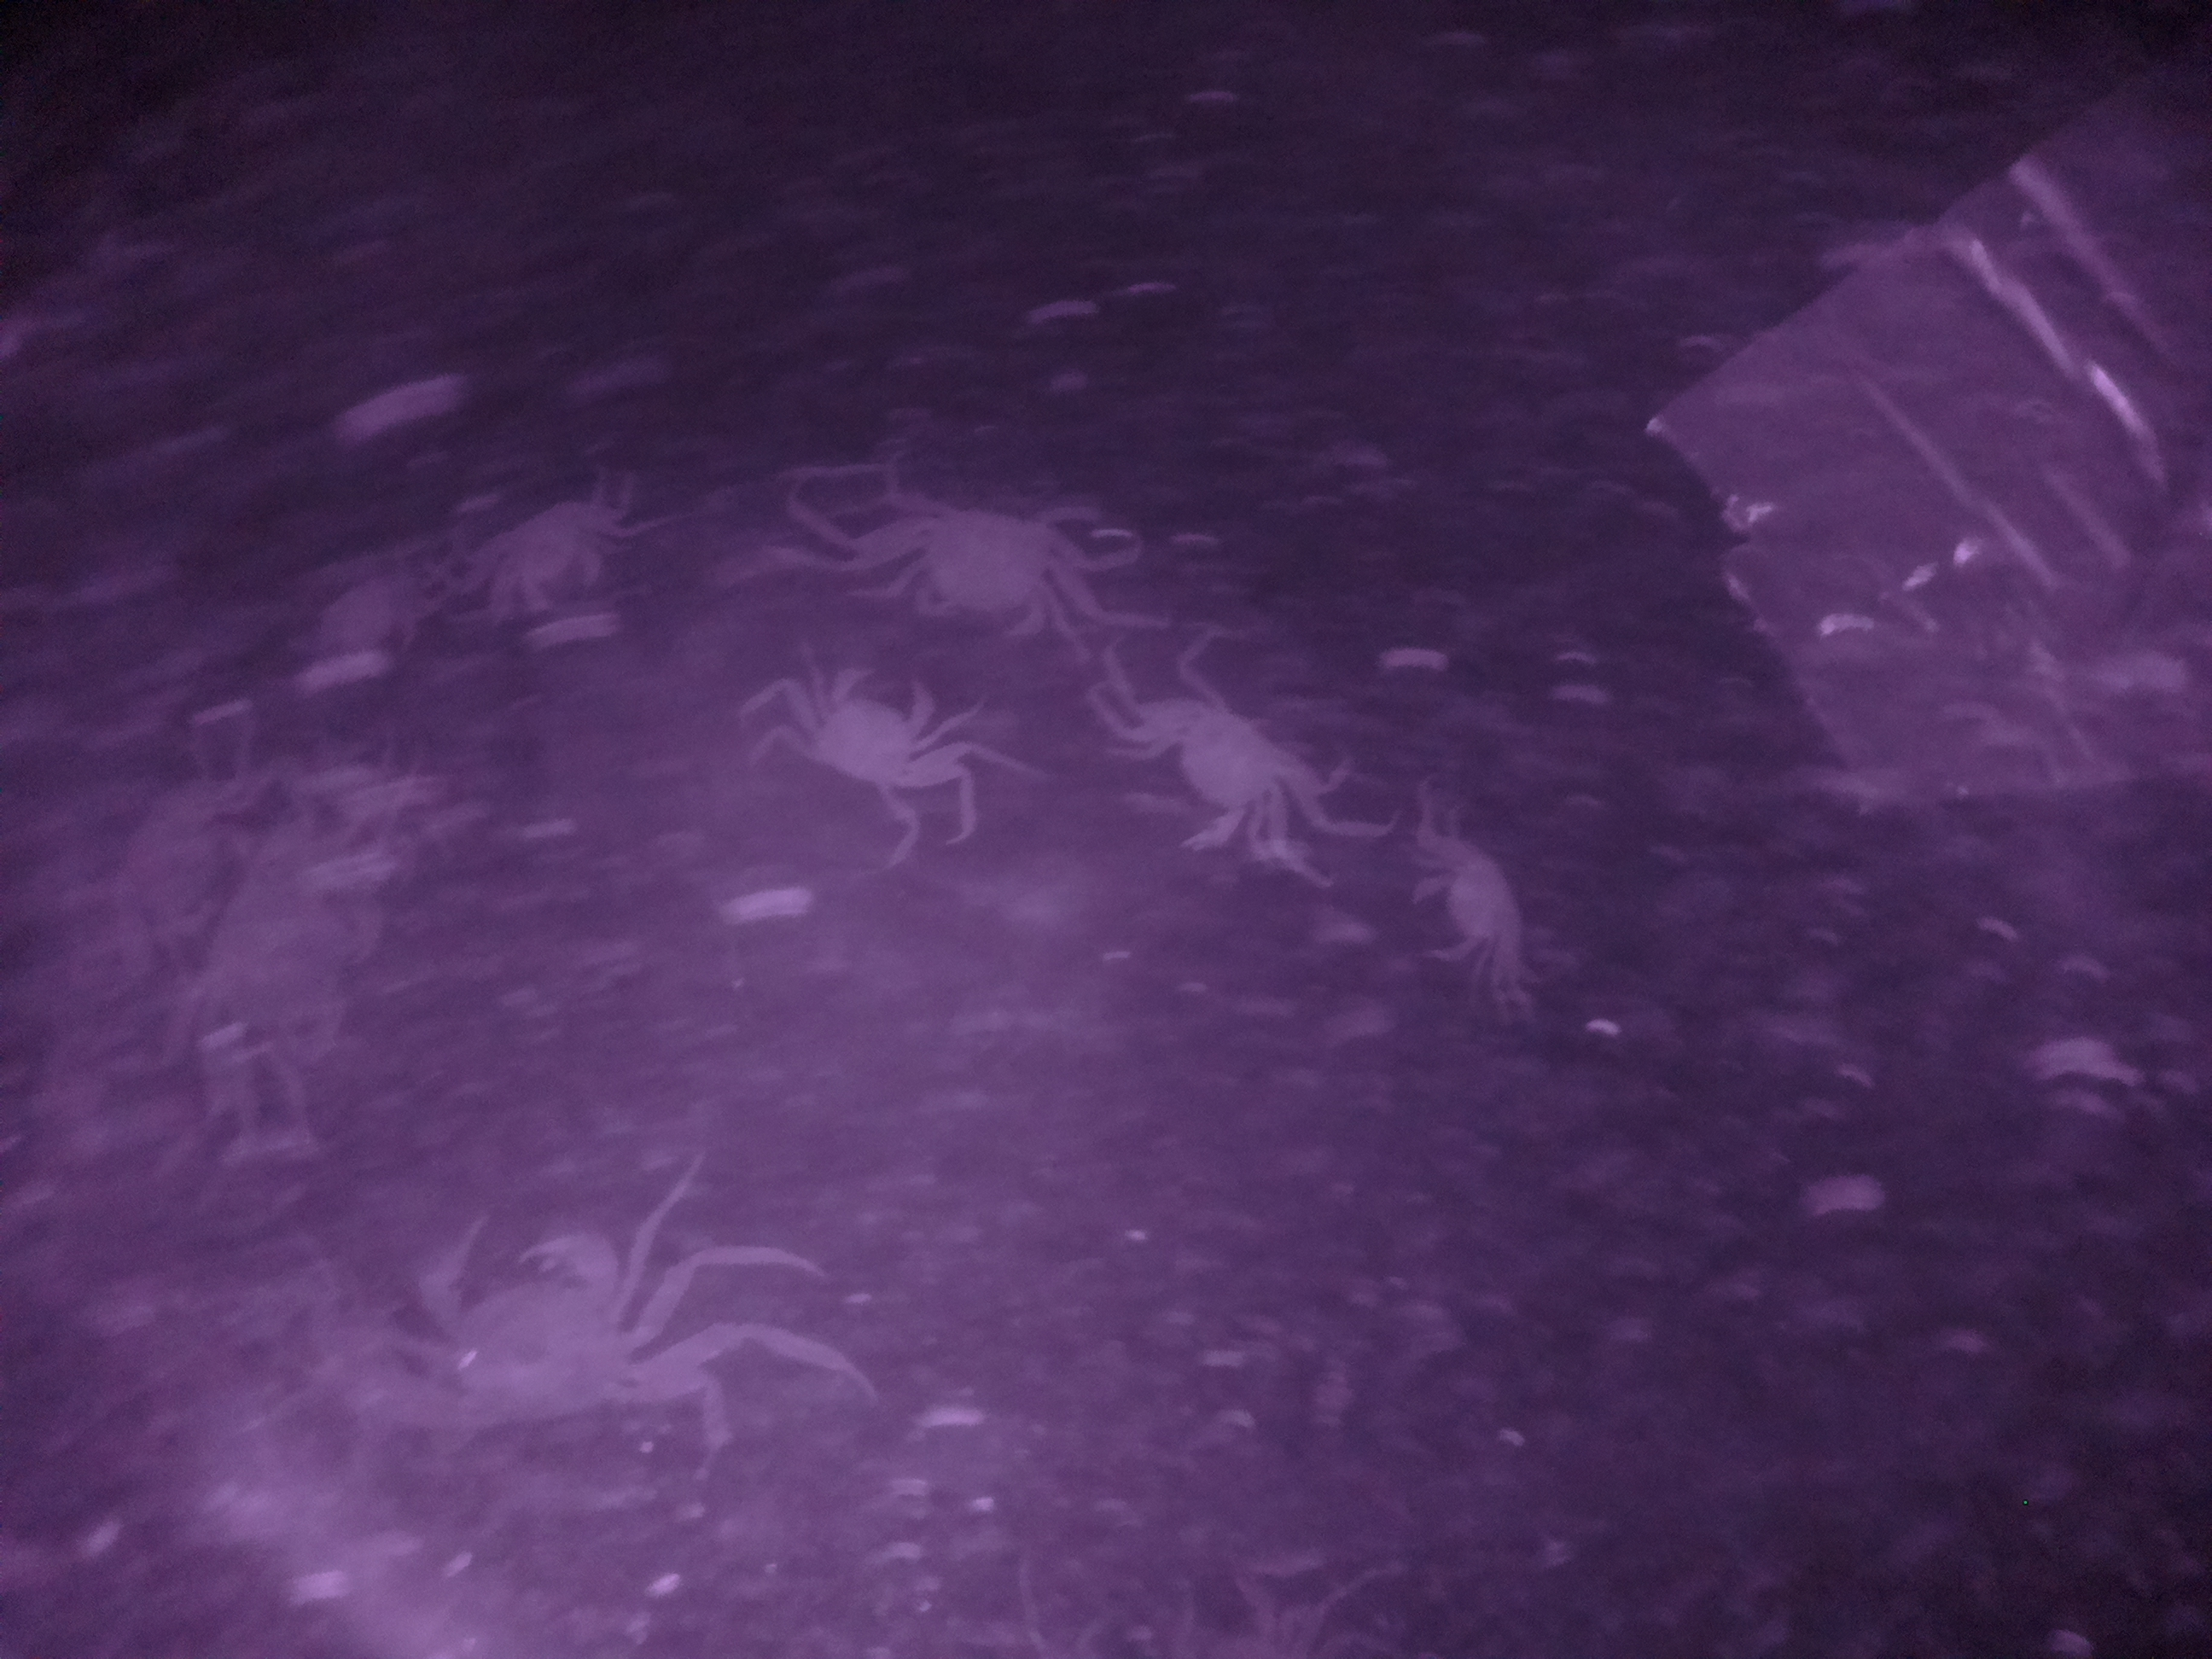Crab: (848, 471, 1103, 633), (779, 659, 956, 805)
